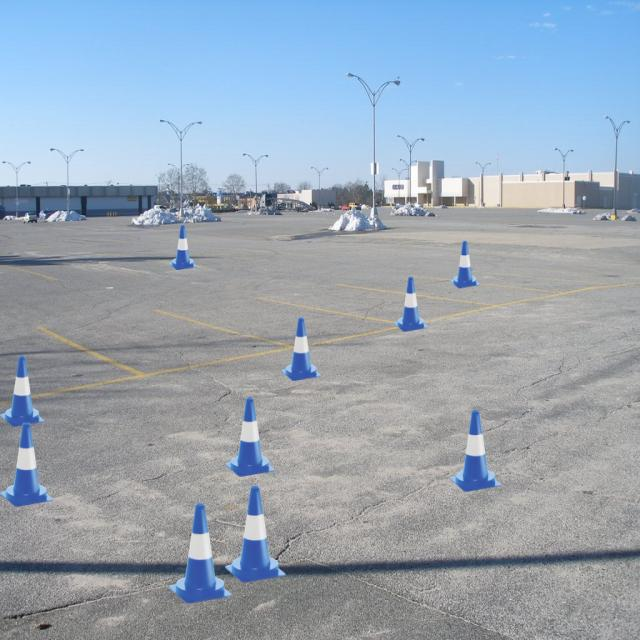blue_cone: (169, 504, 232, 604), (225, 486, 286, 582), (0, 422, 53, 507), (450, 410, 501, 492), (225, 398, 275, 477), (0, 355, 44, 426), (281, 317, 321, 381), (394, 276, 428, 332), (450, 241, 480, 288), (169, 225, 197, 270)
